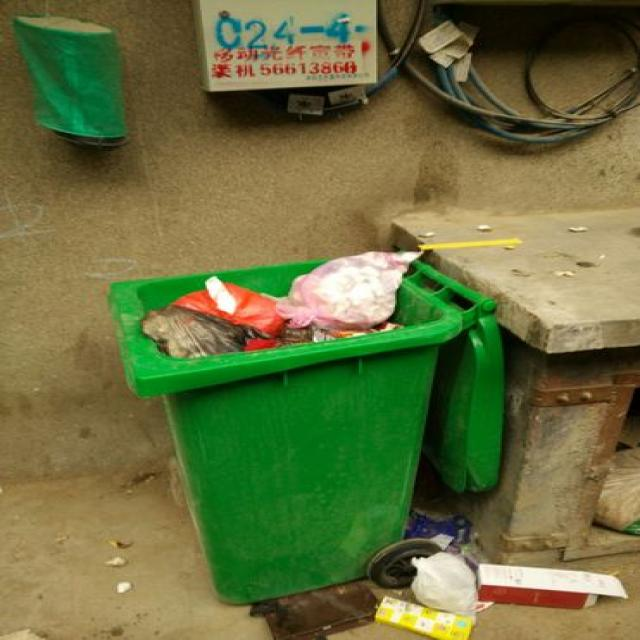garbage: (369, 512, 626, 639)
overflow: (107, 249, 502, 603)
